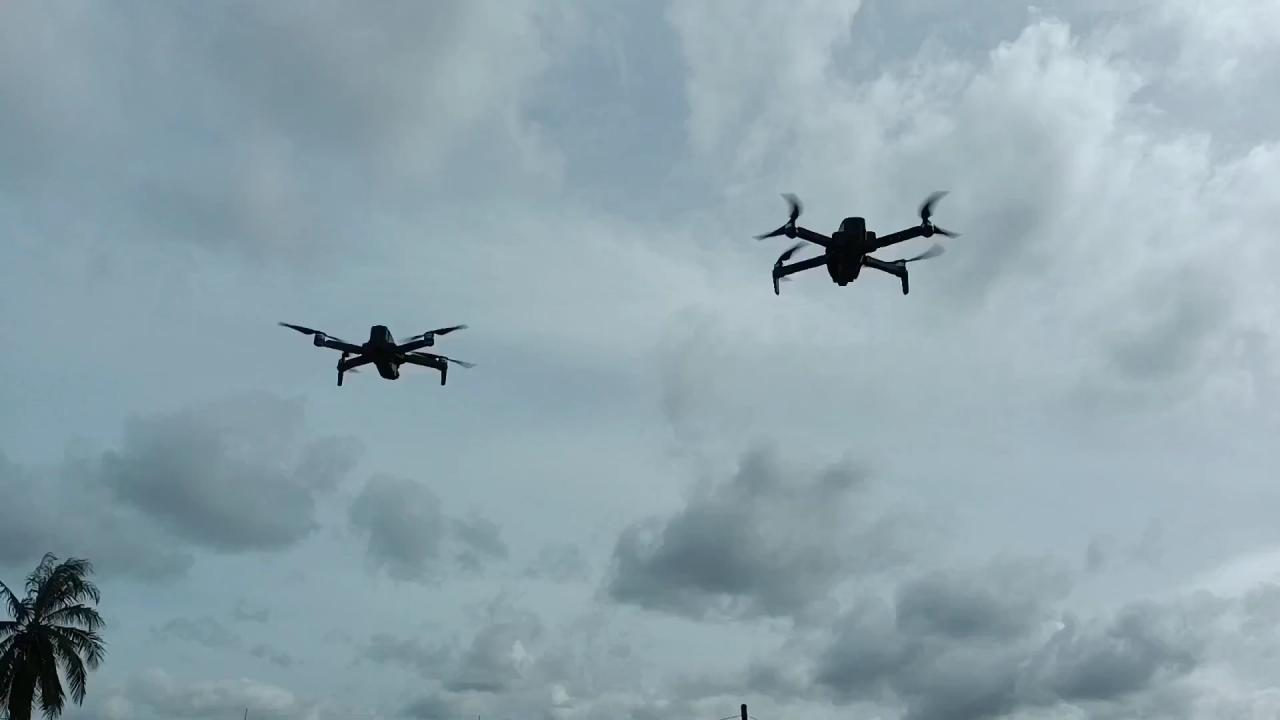Drone: (747, 183, 965, 303), (268, 310, 487, 397)
